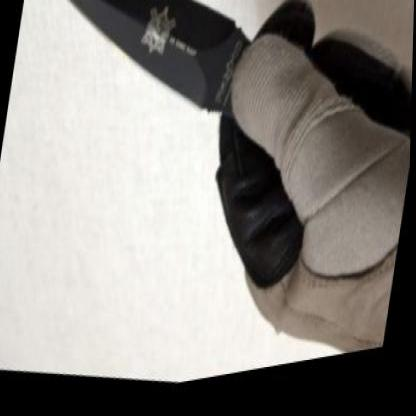knife: (13, 0, 296, 178)
